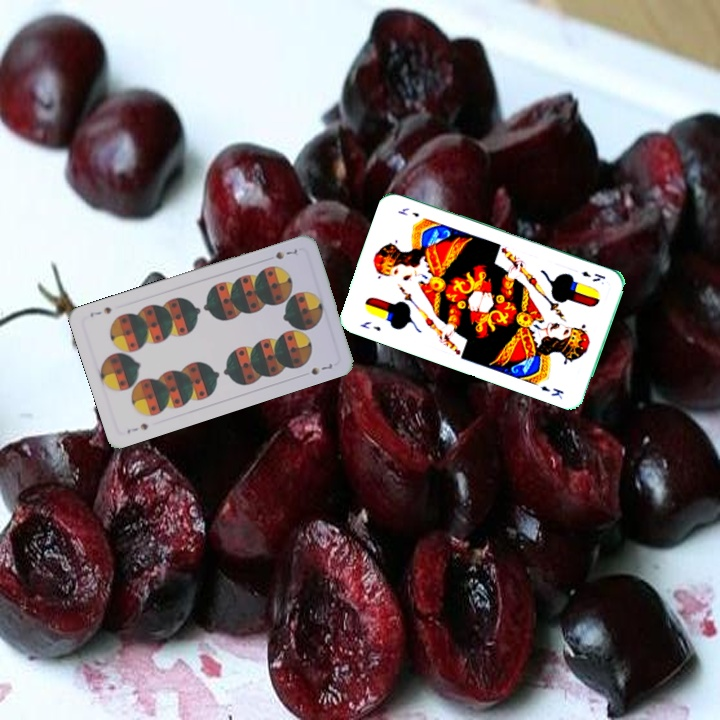EK: (578, 267, 608, 284), (356, 317, 383, 334)
S7: (271, 245, 300, 262), (123, 419, 151, 436)
